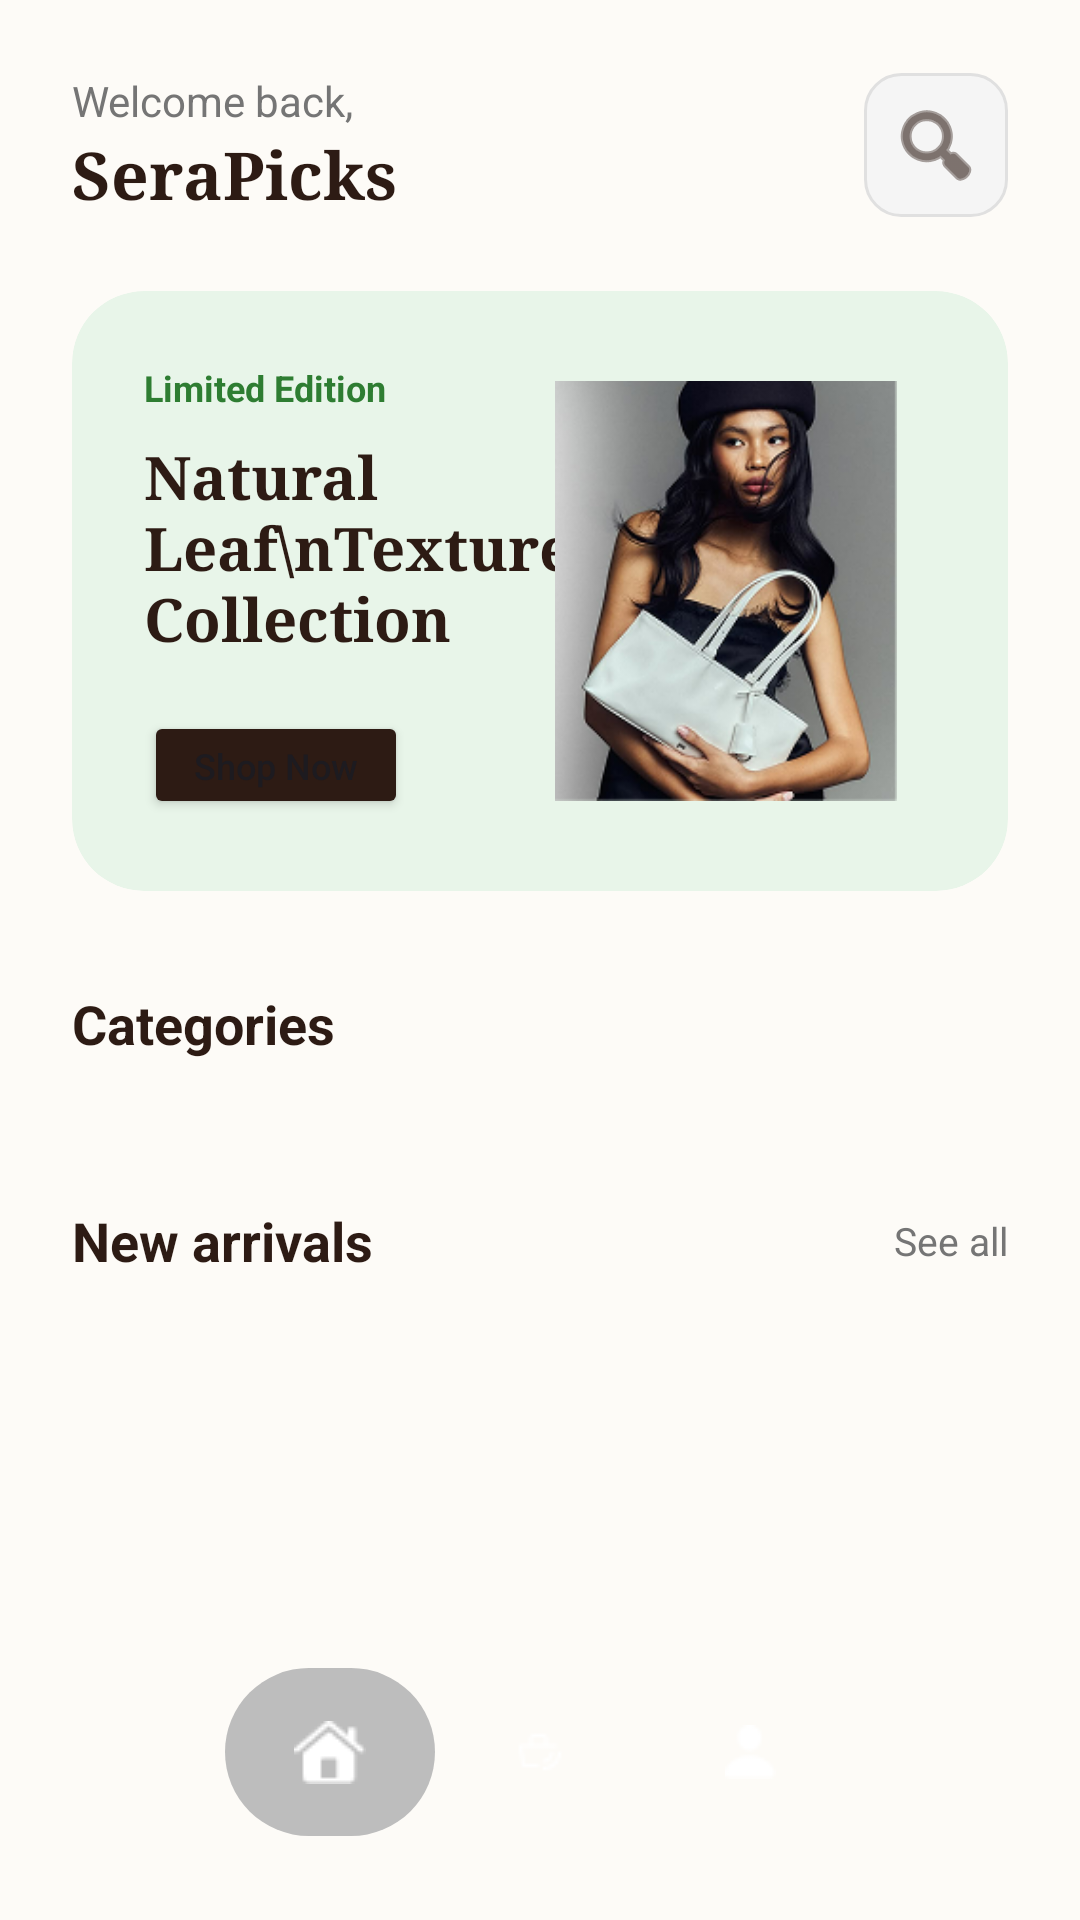

Locate icon controls on the screen. Image size 1080x1920, boxes as (x1, y1, x2, y2).
Home: (225, 1668, 435, 1836)
search: (864, 73, 1008, 217)
